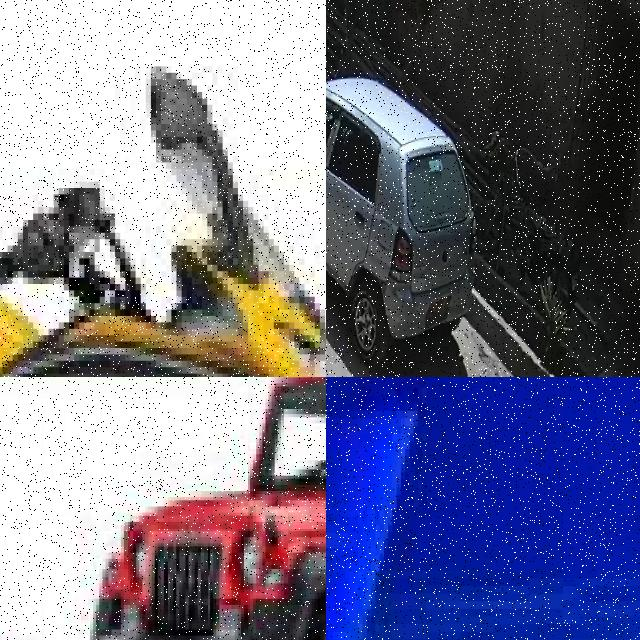bike: (0, 130, 326, 377), (326, 377, 537, 640), (475, 144, 578, 327)
car: (50, 377, 326, 640), (326, 78, 476, 369)
